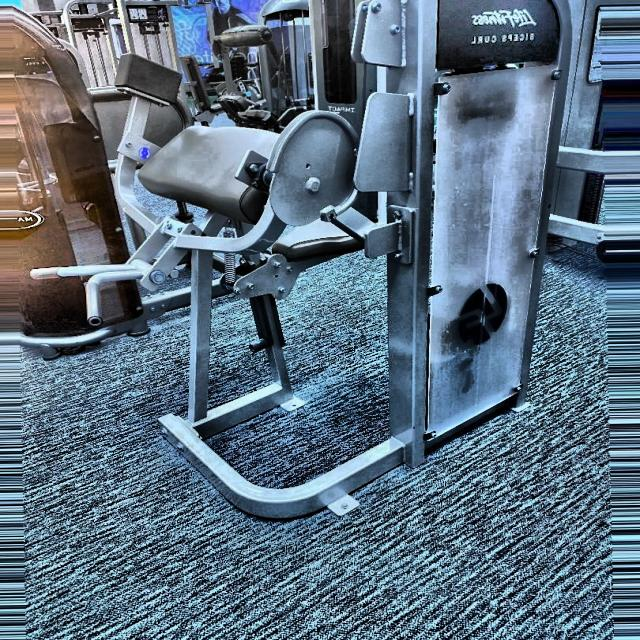bicep_curl_machine: (17, 0, 384, 534), (461, 30, 555, 51)
